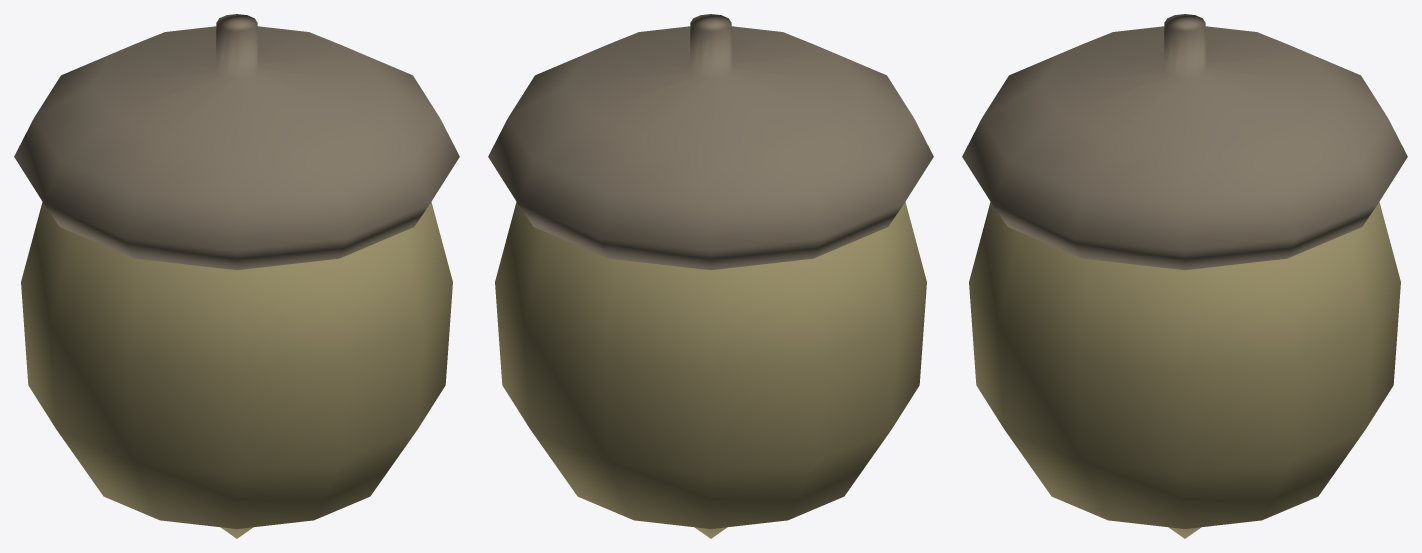
The model's file is Acorn.fbx.
3 views of the same model, side by side, from view 1: azimuth 30°, elevation 25°; view 2: azimuth 150°, elevation 25°; view 3: azimuth 270°, elevation 25° (orthographic).
Visible parts, largest first — view 1: pCylinder5; view 2: pCylinder5; view 3: pCylinder5.
Boxes of the visible parts, x1,y1,x2,y2 form: pCylinder5: (14, 14, 459, 538); pCylinder5: (488, 14, 933, 538); pCylinder5: (962, 14, 1407, 538).
Bounding box in the file's own units: 2.32 × 2.97 × 2.32.
